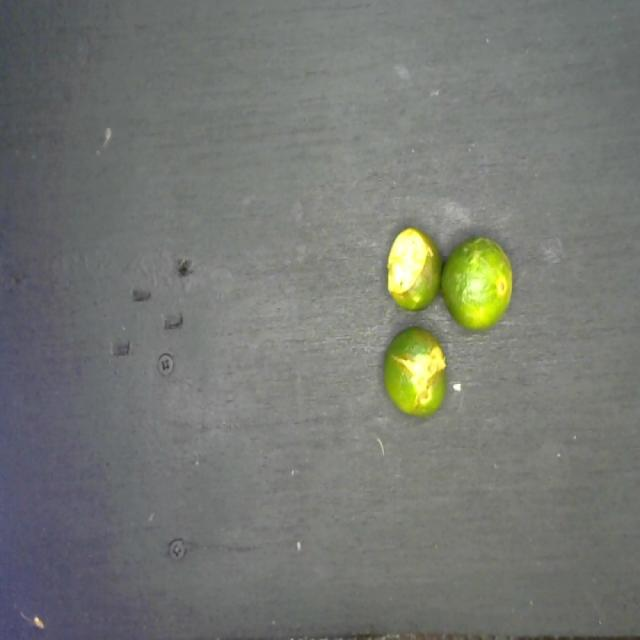biodegradable: (376, 215, 519, 420)
